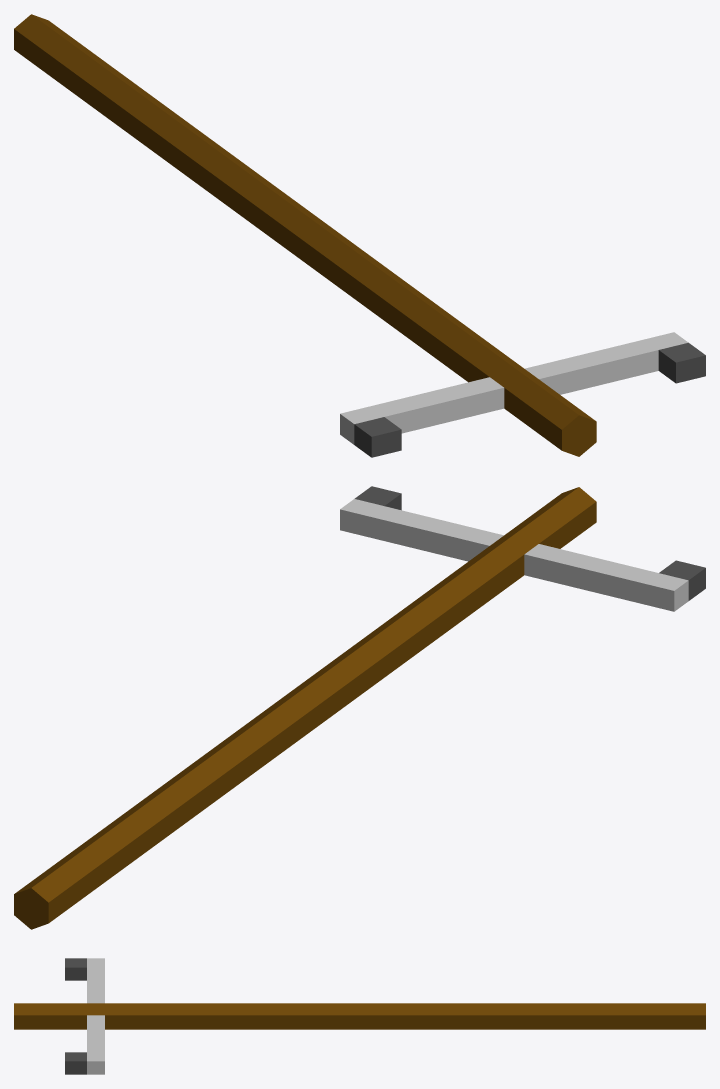
File: transmission_tower_2.dae
3 views of the same model, one above another, from view 1: azimuth 30°, elevation 25°; view 2: azimuth 150°, elevation 25°; view 3: azimuth 270°, elevation 25° (orthographic). The views are drawn at different scales.
Visible parts, largest first — view 1: coords_ME_ID19_MA_material_2, coords_ME_ID3_MA_material_11, coords_ME_ID27_MA_material_11, coords_ME_ID33_MA_material, coords_ME_ID11_MA_material; view 2: coords_ME_ID19_MA_material_2, coords_ME_ID3_MA_material_11, coords_ME_ID27_MA_material_11, coords_ME_ID33_MA_material, coords_ME_ID11_MA_material; view 3: coords_ME_ID19_MA_material_2, coords_ME_ID27_MA_material_11, coords_ME_ID3_MA_material_11, coords_ME_ID33_MA_material, coords_ME_ID11_MA_material.
Boxes of the visible parts, x1,y1,x2,y2 form: coords_ME_ID19_MA_material_2: (14, 14, 596, 456); coords_ME_ID3_MA_material_11: (340, 377, 504, 444); coords_ME_ID27_MA_material_11: (525, 332, 687, 394); coords_ME_ID33_MA_material: (354, 417, 401, 457); coords_ME_ID11_MA_material: (658, 342, 705, 383); coords_ME_ID19_MA_material_2: (14, 487, 596, 929); coords_ME_ID3_MA_material_11: (524, 544, 688, 611); coords_ME_ID27_MA_material_11: (340, 499, 503, 561); coords_ME_ID33_MA_material: (659, 560, 705, 600); coords_ME_ID11_MA_material: (354, 486, 401, 510); coords_ME_ID19_MA_material_2: (14, 1003, 705, 1029); coords_ME_ID27_MA_material_11: (87, 1015, 104, 1074); coords_ME_ID3_MA_material_11: (87, 958, 104, 1003); coords_ME_ID33_MA_material: (65, 958, 86, 980); coords_ME_ID11_MA_material: (65, 1052, 86, 1074).
Bounding box in the file's own units: 26.35 × 3.15 × 74.8.
